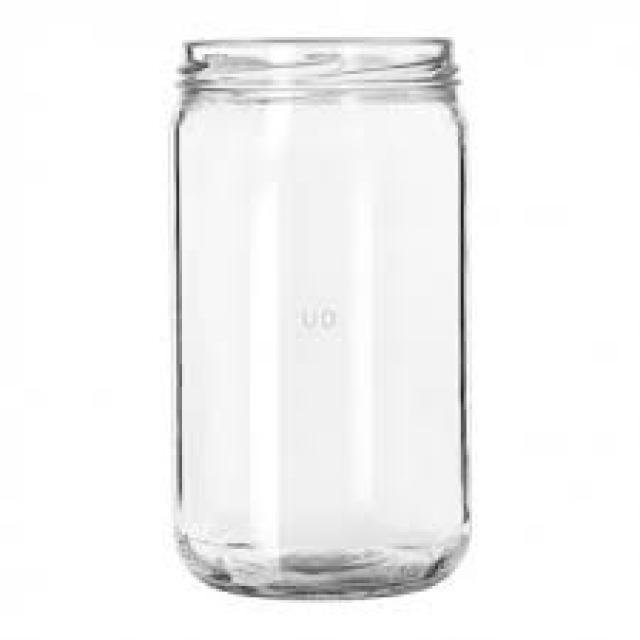glass: (171, 37, 469, 597)
